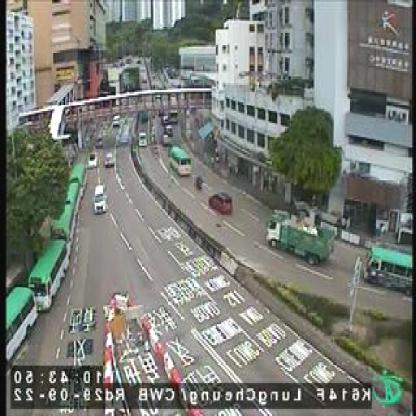Car: (209, 189, 233, 215), (95, 178, 110, 215), (87, 148, 100, 166), (105, 151, 117, 170), (138, 128, 148, 149), (120, 128, 130, 147), (162, 134, 173, 148)
Minibus: (1, 284, 43, 368), (29, 237, 72, 312), (363, 240, 416, 296), (48, 208, 78, 237), (169, 144, 191, 178), (60, 182, 83, 206), (72, 160, 87, 190)
Truck: (265, 208, 337, 269)
